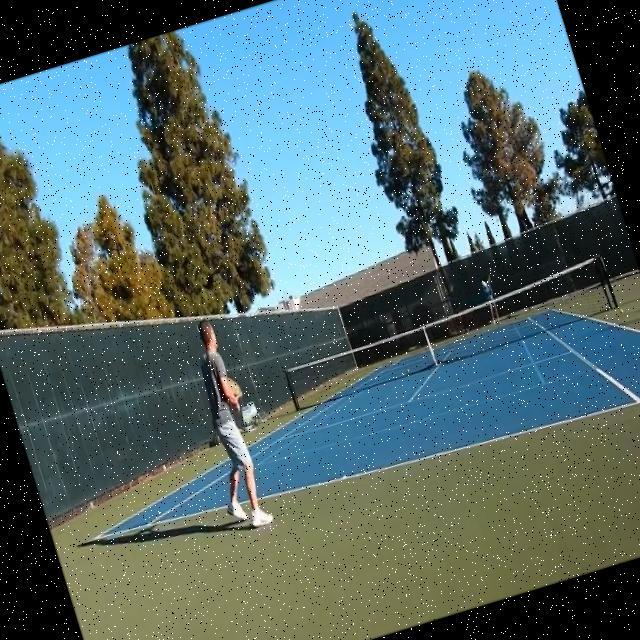court: (67, 281, 640, 569)
net: (279, 254, 620, 412)
player: (170, 314, 281, 535)
